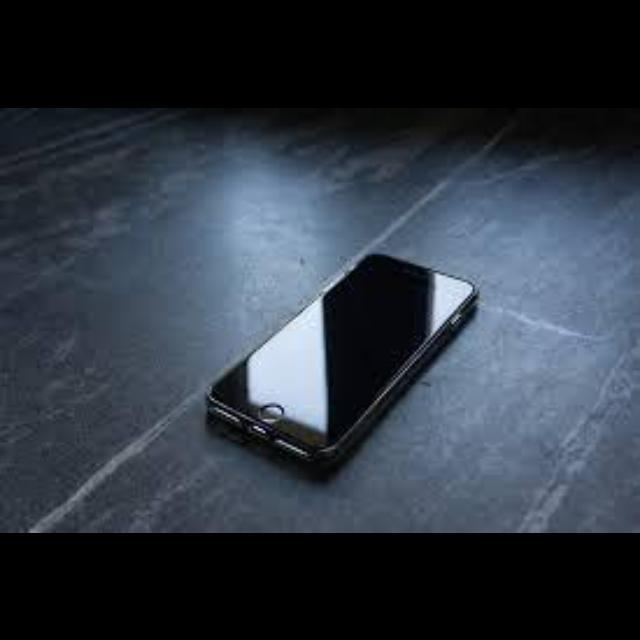PhoneUse: (206, 255, 478, 471)
